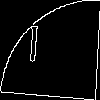I: (24, 25, 41, 72)
